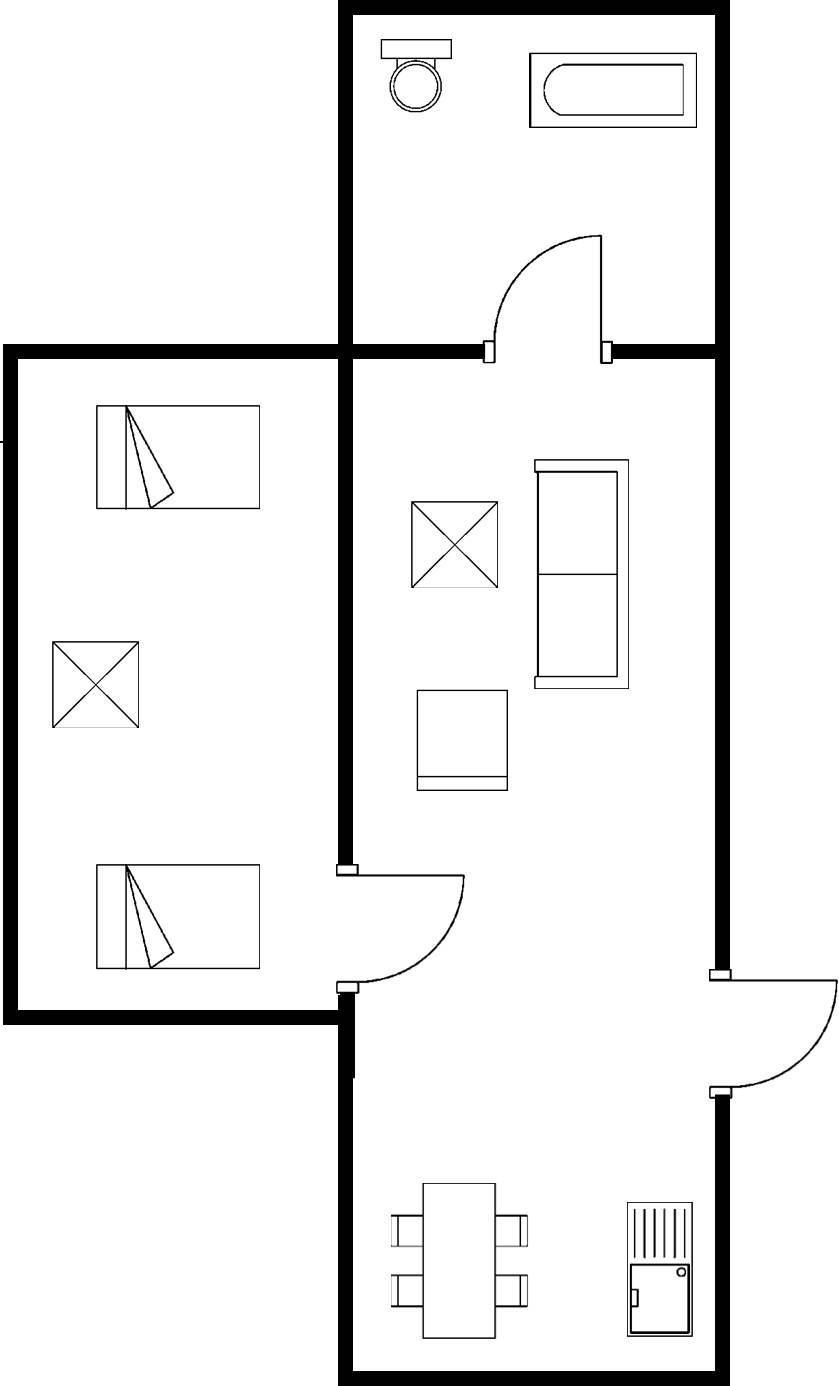bed: (88, 398, 272, 518), (90, 857, 268, 977)
coffee_table: (45, 631, 146, 737), (406, 492, 503, 599)
dining_table: (383, 1175, 537, 1348)
large_sink: (376, 31, 456, 121)
large_sofa: (525, 453, 642, 702)
sink: (617, 1191, 695, 1345)
small_sofa: (411, 681, 514, 802)
tub: (525, 45, 702, 134)
